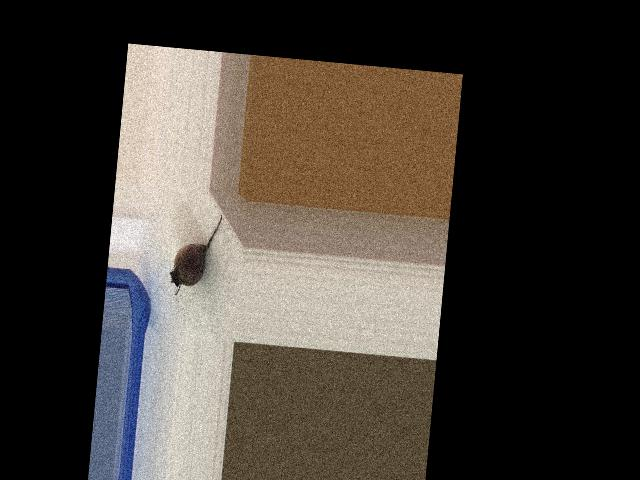beet: (168, 210, 222, 298)
